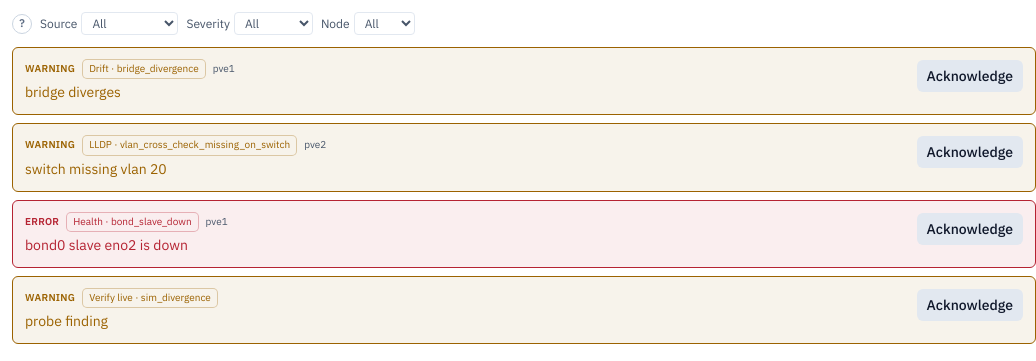
Test case: FindingsStreamPanel › includes probe in the source filter and filters a probe finding correctly
This screenshot has width=1036, height=361.
Expected: the text "bridge diverges" is shown, [25,83,121,101]
Select "Verify live" in the dropdown named "Filter by source" at (130, 24), box [81,12,178,35]
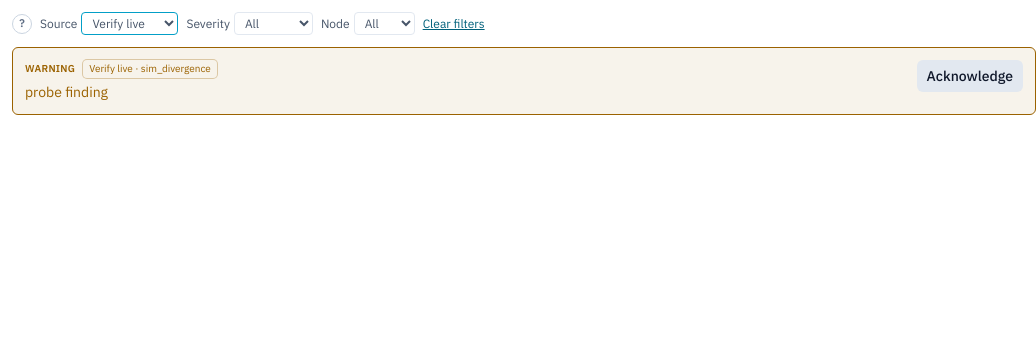
Expected: the text "probe finding" is shown, [25,83,108,101]
Result: the text "bridge diverges" is gone
